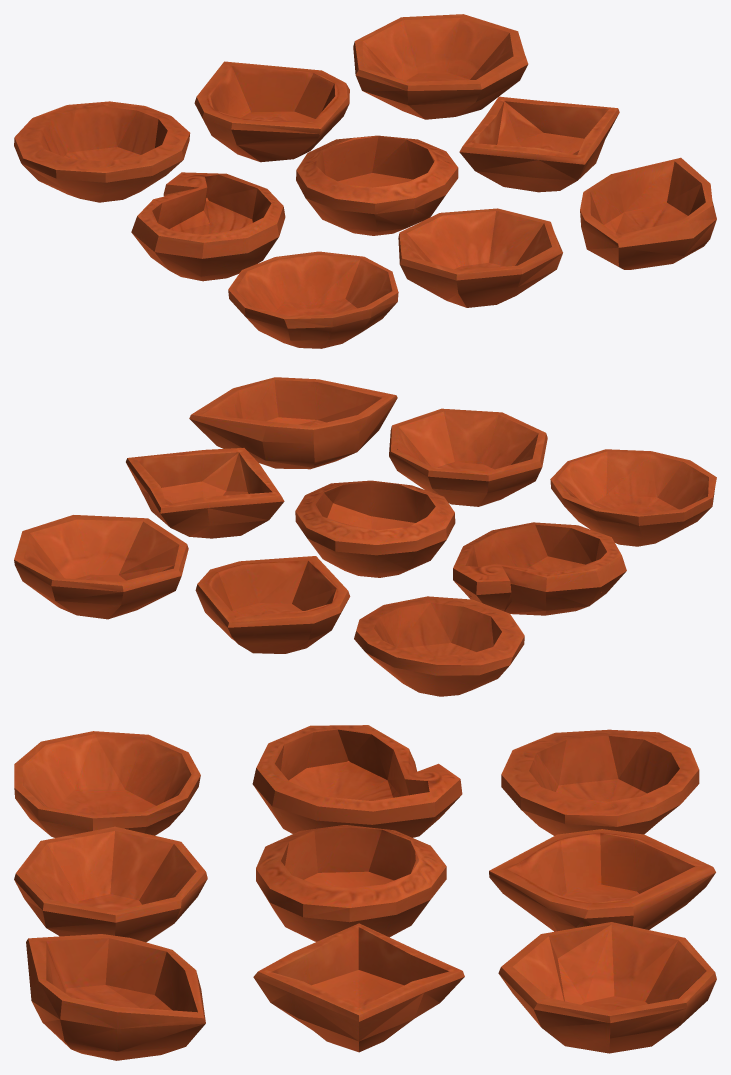
File: 1-9 clay diyas.glb
The picture shows the model from 3 angles, top to bottom: view 1: azimuth 30°, elevation 25°; view 2: azimuth 150°, elevation 25°; view 3: azimuth 270°, elevation 25°; orthographic projection. The views are drawn at different scales.
Visible parts, largest first — view 1: mesh_000; view 2: mesh_000; view 3: mesh_000.
Part boxes in pixels (x1,y1,x2,y2): mesh_000: (14, 14, 716, 348); mesh_000: (14, 377, 716, 696); mesh_000: (14, 725, 716, 1060).
Bounding box in the file's own units: 0.9356 × 0.1113 × 0.9438.
Materials: 1 (1 with a texture image).
